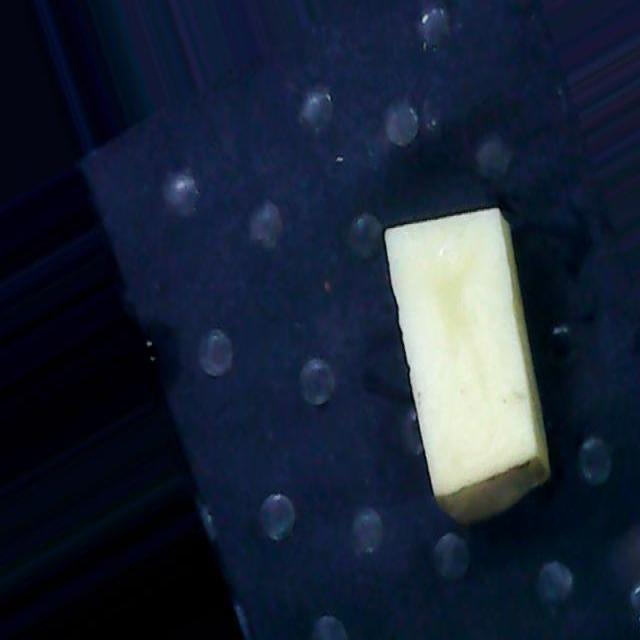-Kitchen waste - potato-: (380, 208, 552, 520)
